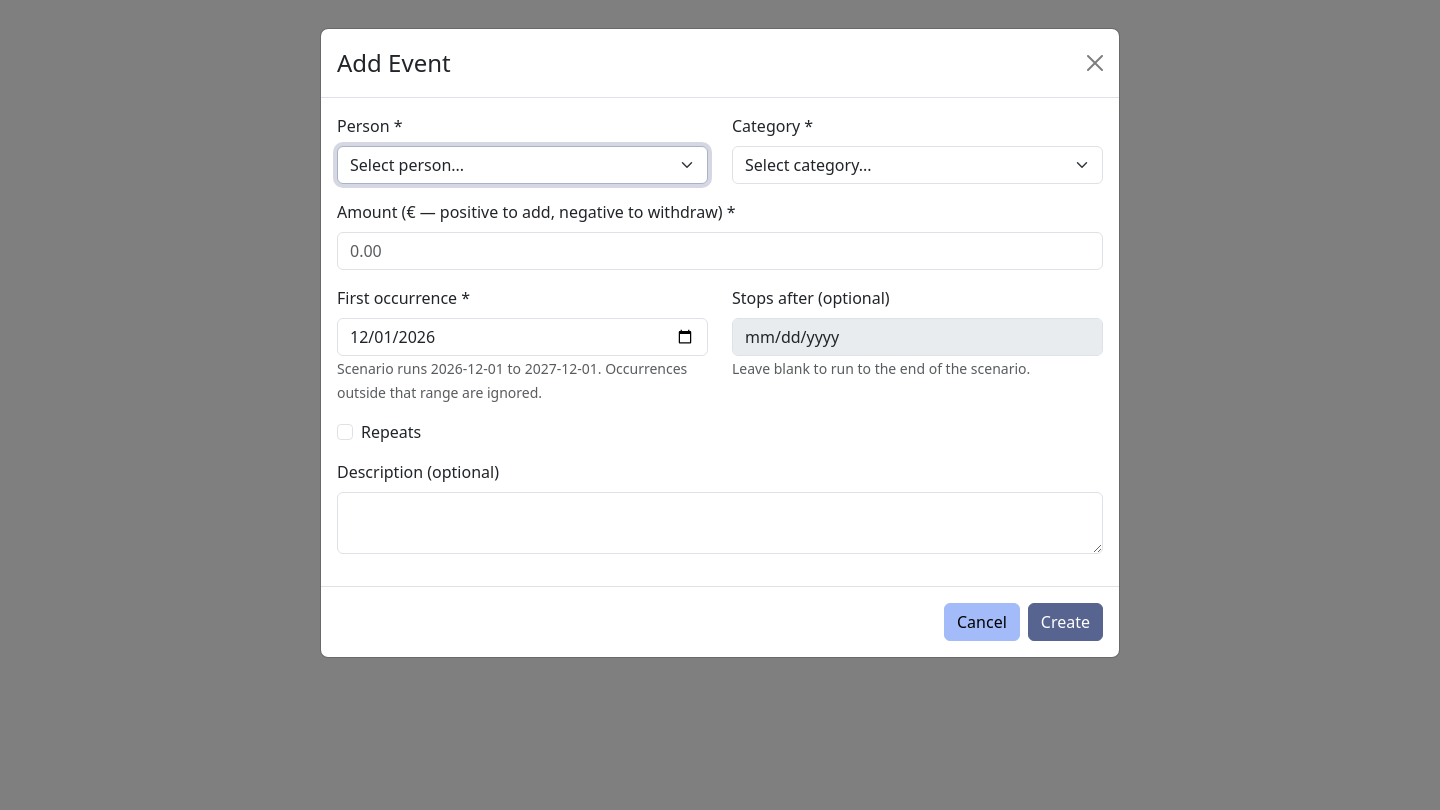
Test: validation › blocks submit when required fields are empty
The width and height of the screenshot is (1440, 810).
Click the button "Create".
click(1065, 622)  # box [1028,603,1103,641]
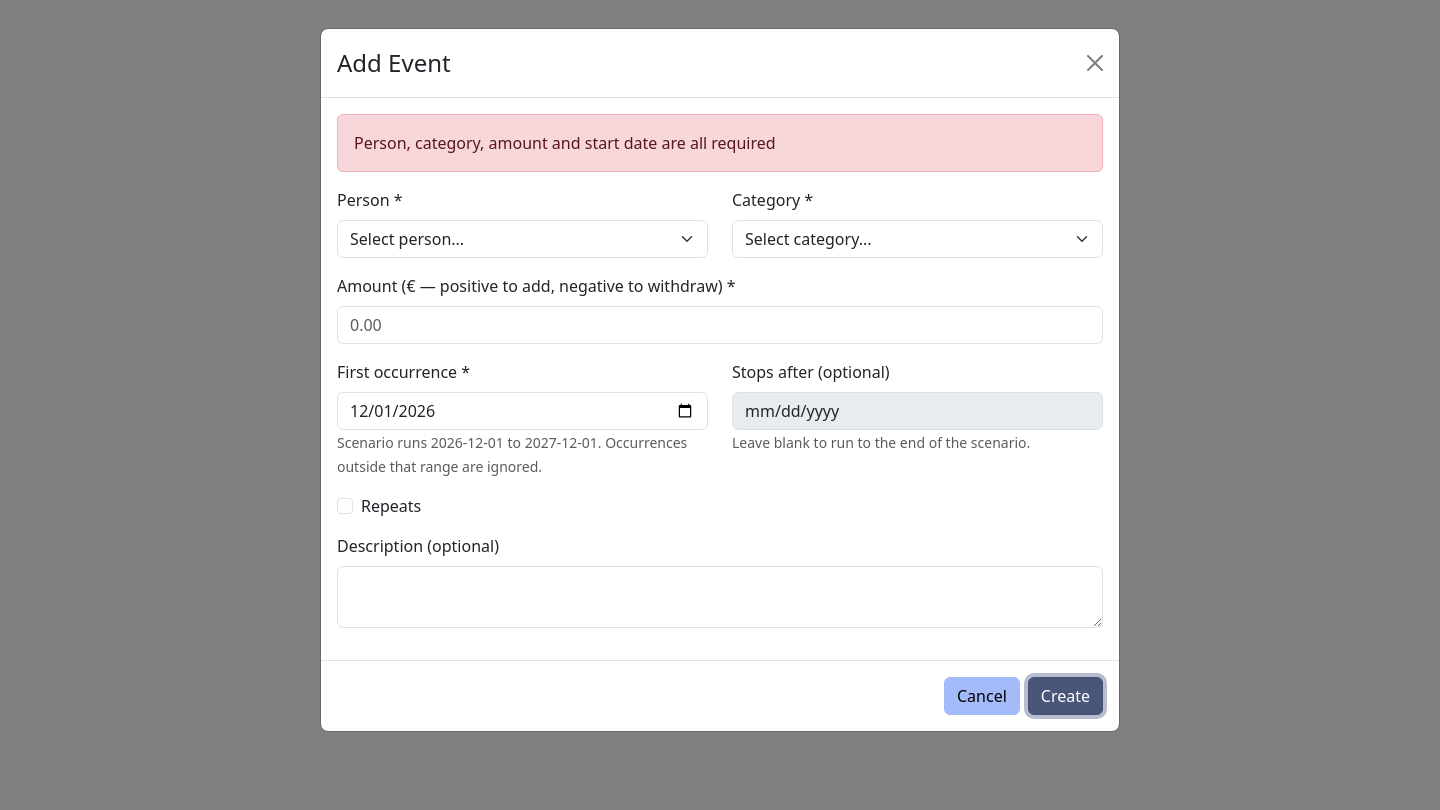
Check: the text "Person, category, amount and start date are all required" is shown, box [337,114,1103,172]
